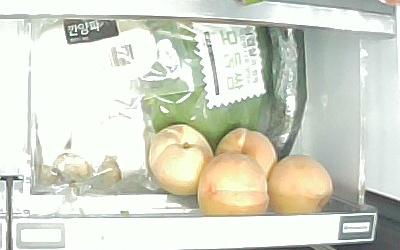peach: (148, 123, 214, 196), (197, 153, 269, 215), (269, 155, 334, 214), (216, 128, 278, 179)
